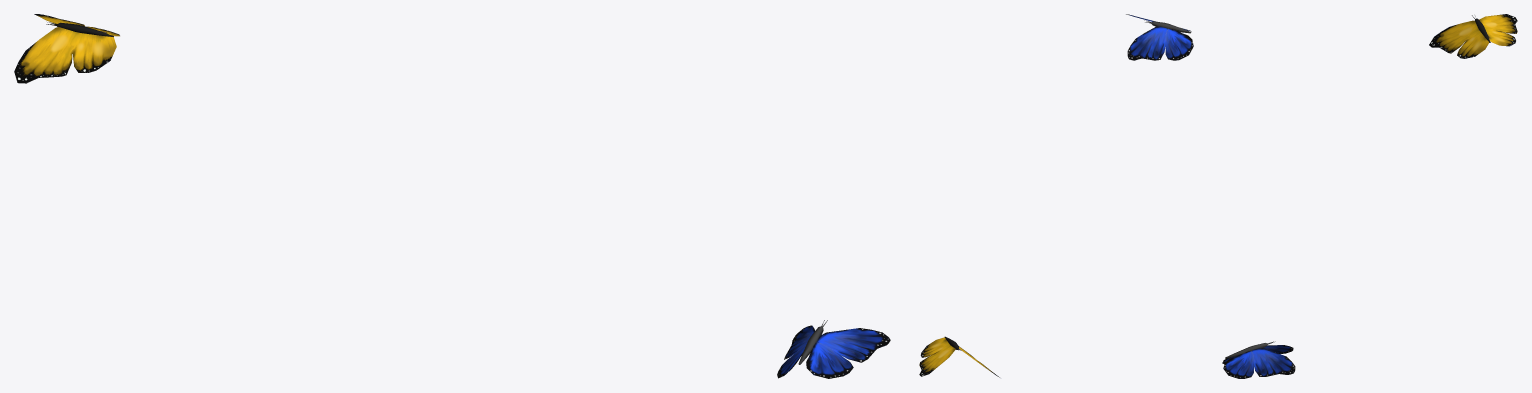
File: ybfly2.glb
The picture shows the model from 3 angles, left to right: view 1: azimuth 30°, elevation 25°; view 2: azimuth 150°, elevation 25°; view 3: azimuth 330°, elevation 25°; orthographic projection. The views are drawn at different scales.
Parts seen in each view (by area): view 1: Plane.032, Plane.043, Plane.042; view 2: Plane.042, Plane.028; view 3: Plane.043, Plane.032, Plane.028.
Part boxes in pixels (left/top/right/bottom): Plane.032: left=14, top=27, right=116, bottom=83; Plane.043: left=806, top=328, right=890, bottom=378; Plane.042: left=777, top=325, right=814, bottom=378; Plane.042: left=1127, top=26, right=1193, bottom=60; Plane.028: left=919, top=337, right=955, bottom=376; Plane.043: left=1223, top=348, right=1295, bottom=378; Plane.032: left=1429, top=20, right=1489, bottom=58; Plane.028: left=1479, top=14, right=1517, bottom=46.
Size of the model in its own units: 6.55 by 1.05 by 18.93.
3 materials, 1 textured.
